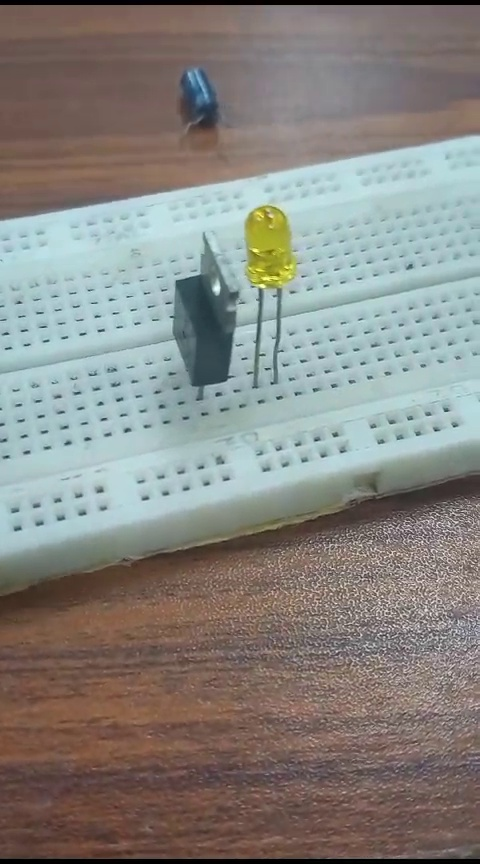LED: (234, 199, 304, 389)
voltage regulator: (168, 233, 239, 408)
